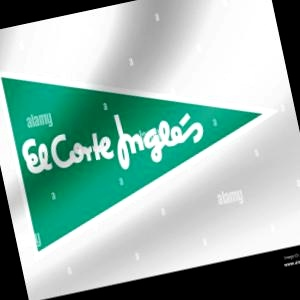corte_ingles: (201, 45, 220, 135)
